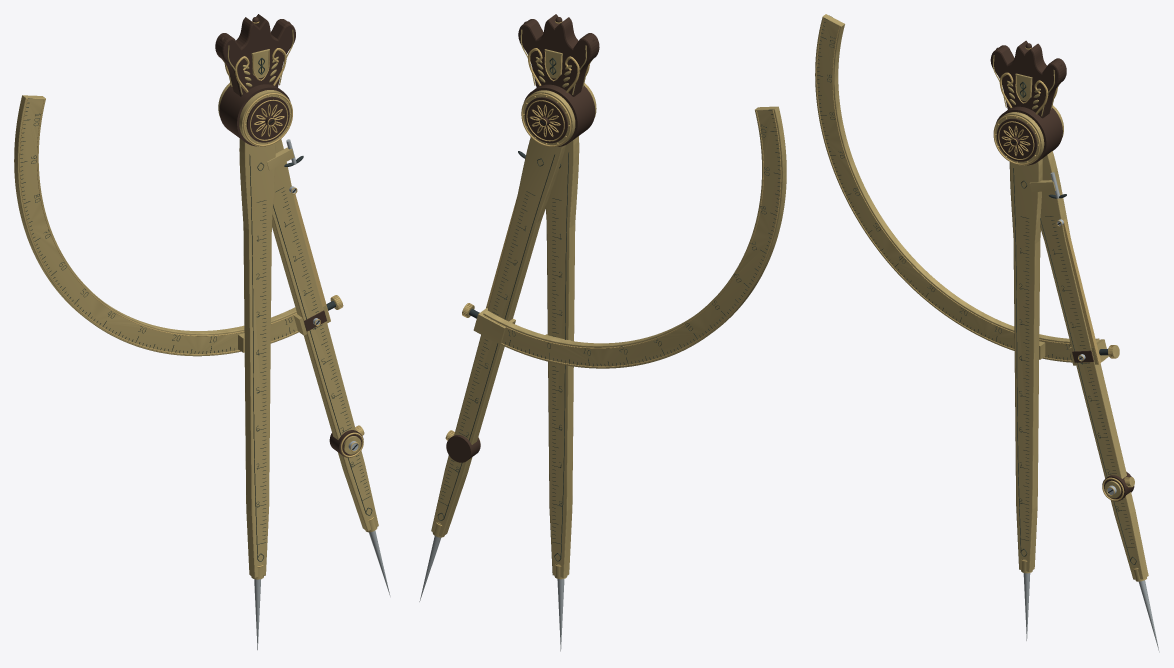
The model's file is drafting-compass-web.glb.
The picture shows the model from 3 angles, left to right: view 1: azimuth 30°, elevation 25°; view 2: azimuth 150°, elevation 25°; view 3: azimuth 330°, elevation 25°; orthographic projection. The views are drawn at different scales.
Parts seen in each view (by area): view 1: Medallón de la bisagra, Articulación central de bronce, Borde doble del medallón, Flor geométrica del escudo, Punta larga de acero; view 2: Medallón de la bisagra, Articulación central de bronce, Borde doble del medallón, Flor geométrica del escudo, Punta larga de acero; view 3: Medallón de la bisagra, Articulación central de bronce, Borde doble del medallón, Flor geométrica del escudo, Punta larga de acero.
Boxes of the visible parts, left/top/right/bottom form: Medallón de la bisagra: left=14, top=29, right=378, bottom=579; Articulación central de bronce: left=215, top=14, right=363, bottom=457; Borde doble del medallón: left=19, top=21, right=373, bottom=567; Flor geométrica del escudo: left=20, top=58, right=372, bottom=561; Punta larga de acero: left=254, top=139, right=390, bottom=650; Medallón de la bisagra: left=431, top=29, right=786, bottom=579; Articulación central de bronce: left=446, top=14, right=599, bottom=462; Borde doble del medallón: left=436, top=21, right=781, bottom=566; Flor geométrica del escudo: left=437, top=58, right=780, bottom=561; Punta larga de acero: left=419, top=157, right=564, bottom=651; Medallón de la bisagra: left=815, top=14, right=1148, bottom=581; Articulación central de bronce: left=990, top=40, right=1134, bottom=501; Borde doble del medallón: left=816, top=18, right=1138, bottom=569; Flor geométrica del escudo: left=817, top=15, right=1136, bottom=564; Punta larga de acero: left=1023, top=172, right=1159, bottom=652.
Bounding box in the file's own units: 0.6086 × 1 × 0.092.
